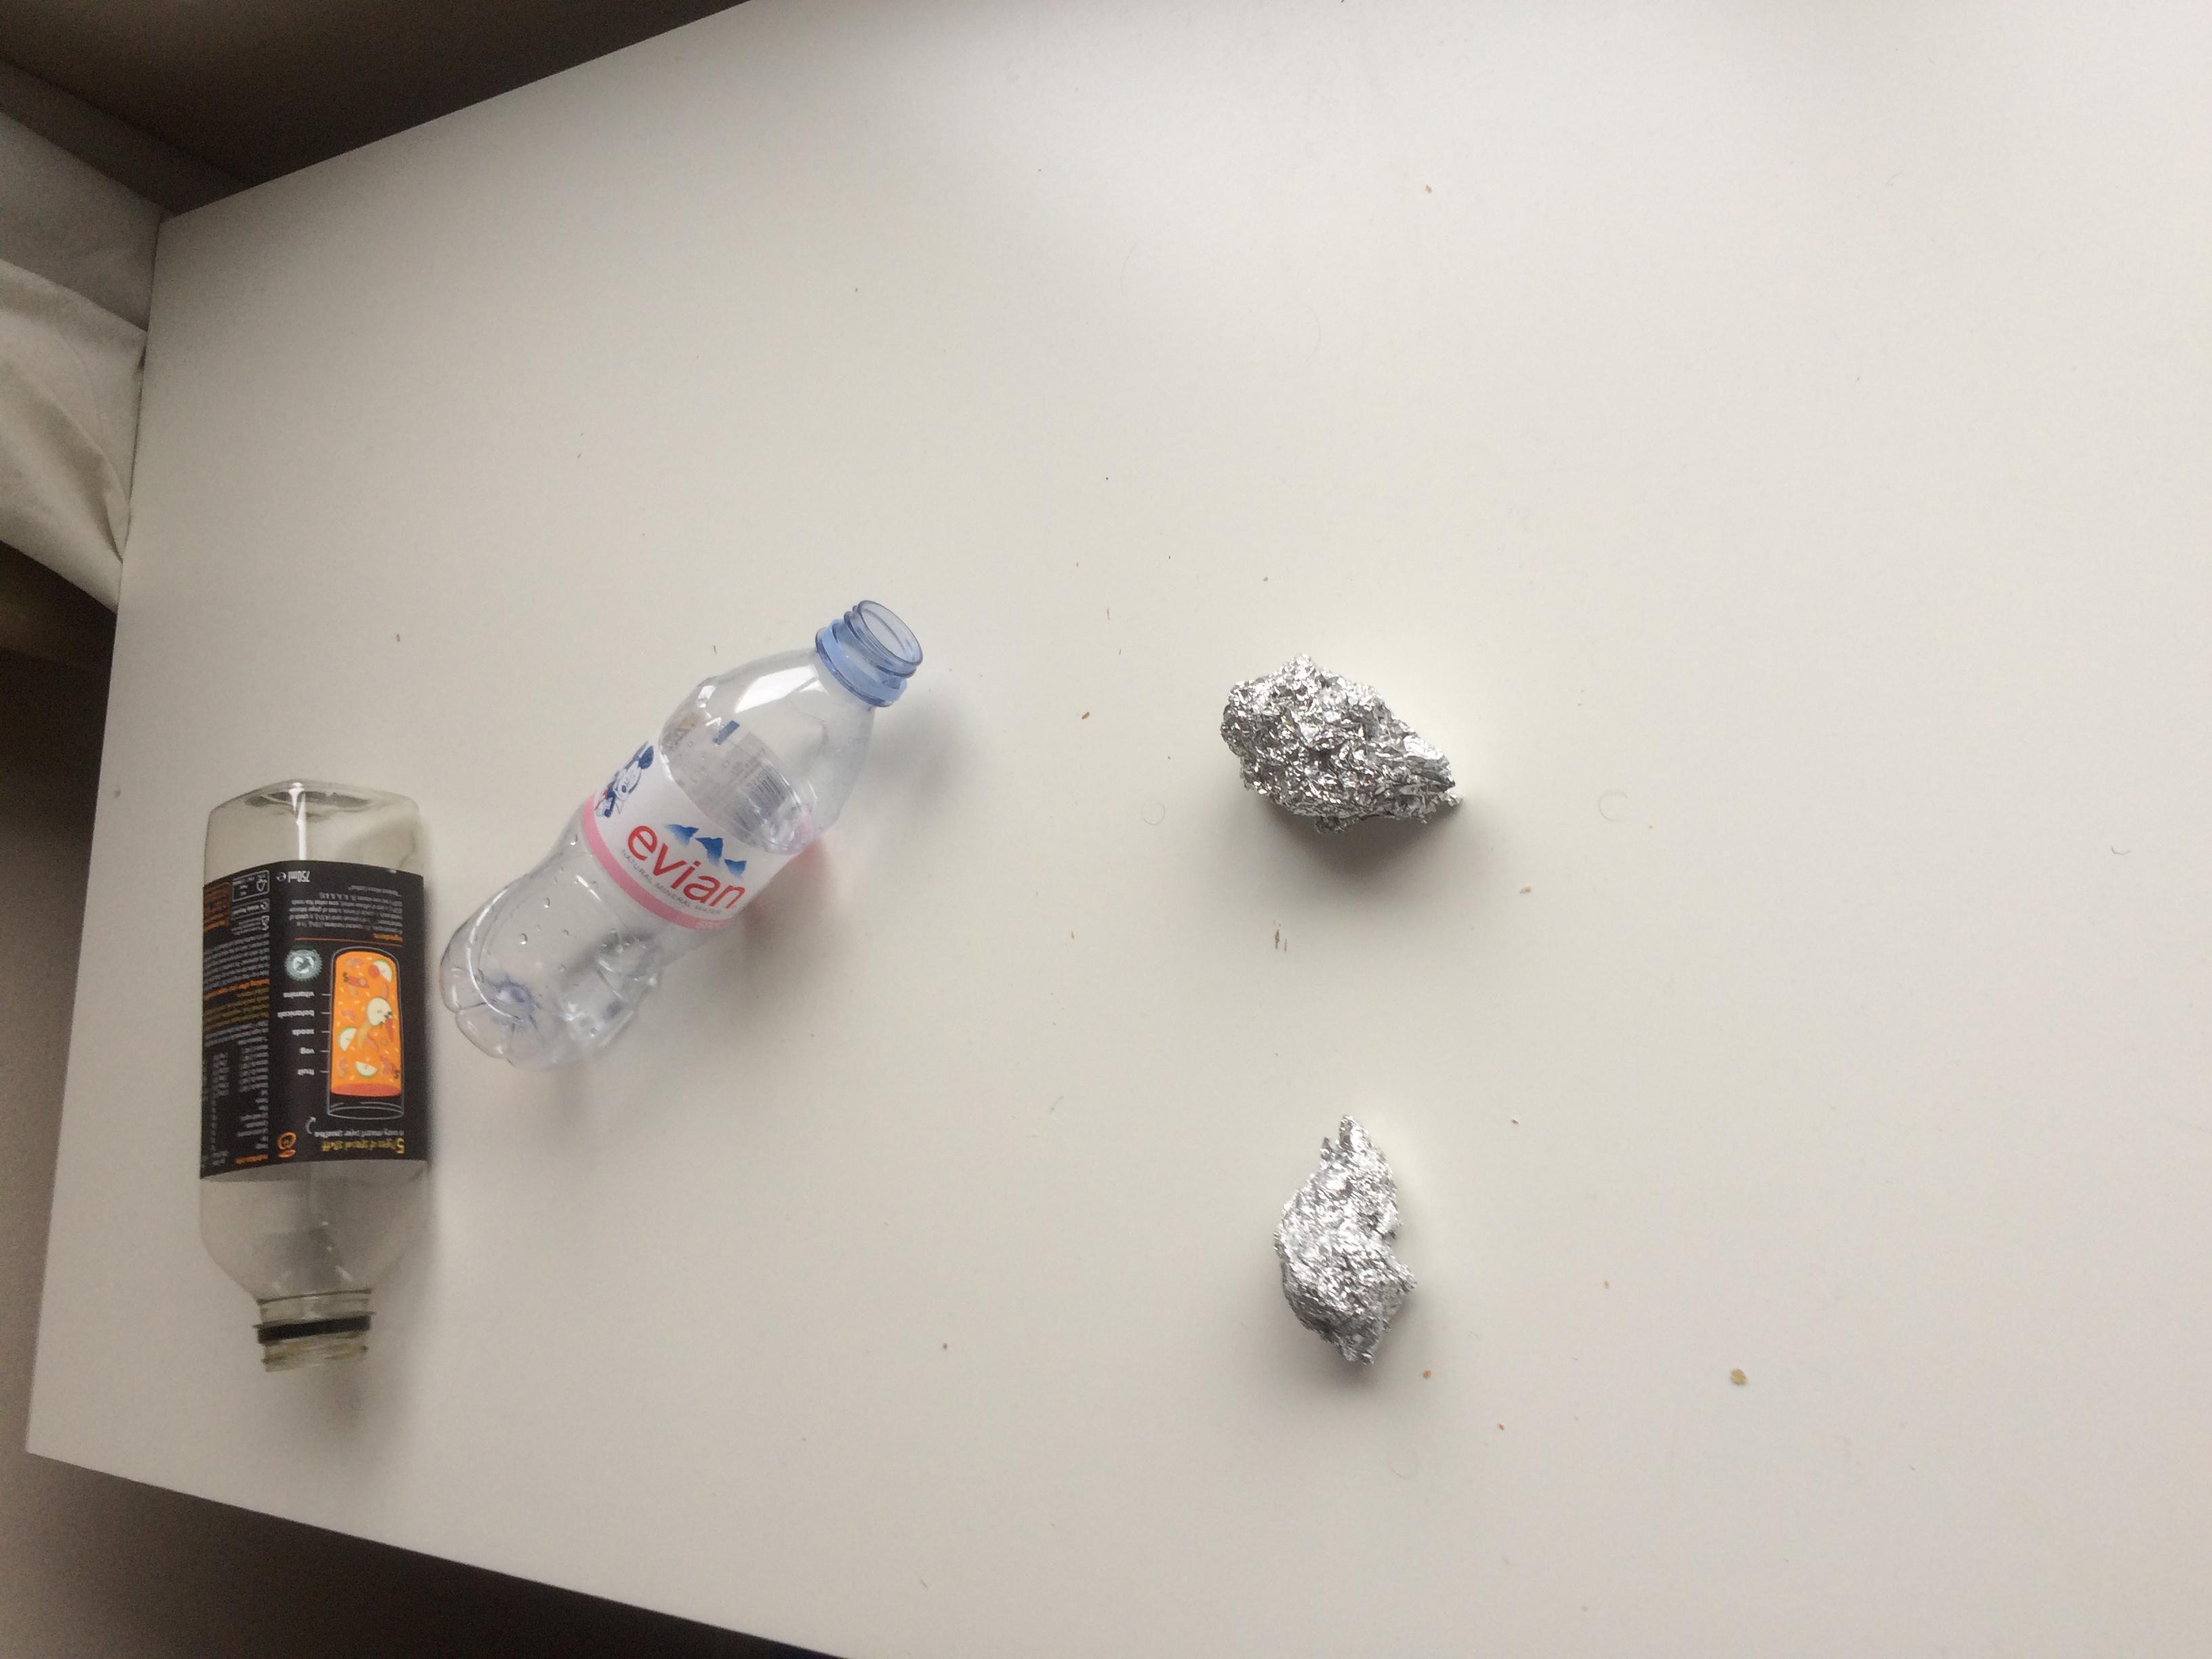bottle: (3, 329, 1317, 688), (232, 150, 1174, 322)
